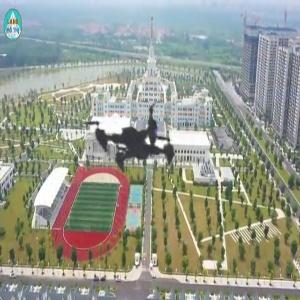drone: (10, 7, 284, 281)
